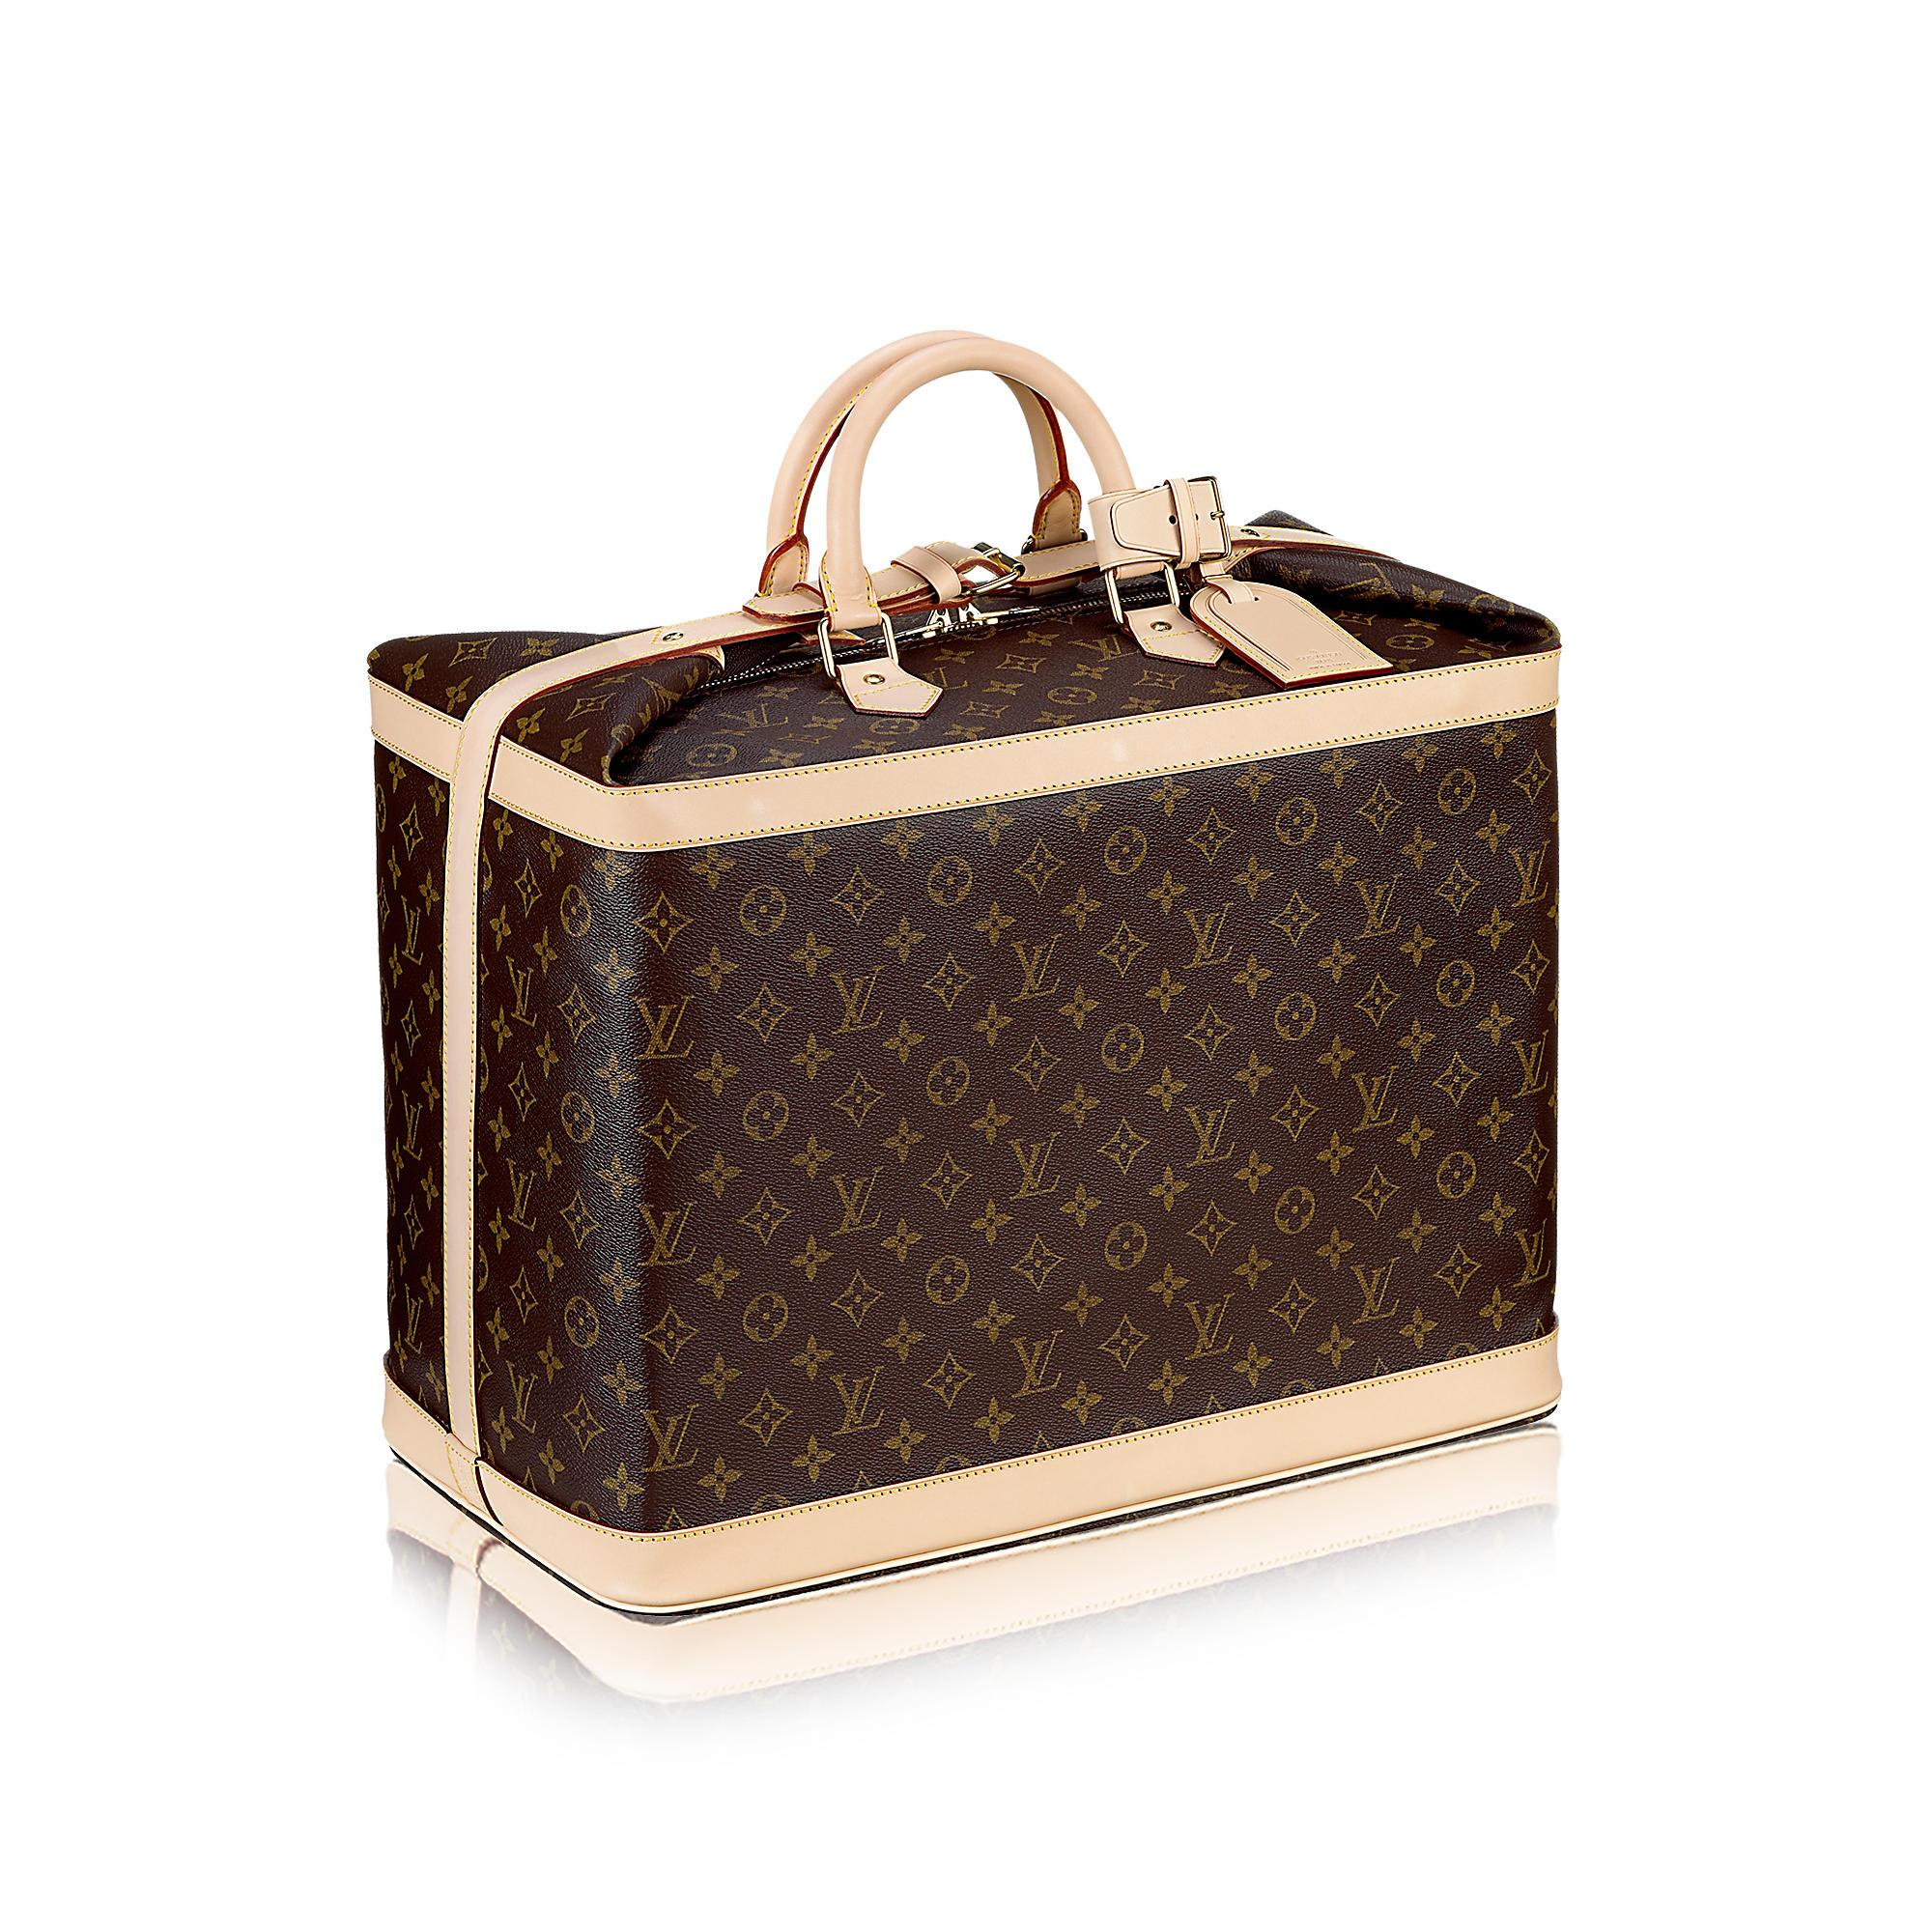LOUIS-VUITTON: (628, 991, 697, 1063), (824, 1162, 885, 1242), (824, 962, 888, 1037), (1343, 1254, 1403, 1330), (828, 1364, 886, 1440), (640, 1401, 701, 1474), (1003, 934, 1063, 1007), (637, 1198, 695, 1272), (1007, 1327, 1065, 1401), (1007, 1129, 1063, 1203), (1180, 901, 1237, 973), (1352, 869, 1407, 943), (1348, 1062, 1401, 1138), (1185, 1095, 1237, 1171), (1180, 1292, 1233, 1364), (1507, 1026, 1552, 1104), (1504, 837, 1552, 908), (1507, 1219, 1552, 1293), (501, 1355, 540, 1435), (502, 954, 541, 1028), (506, 1154, 538, 1233), (395, 890, 426, 968), (1065, 633, 1141, 663), (395, 1086, 425, 1161), (715, 701, 789, 729), (398, 1283, 425, 1357)
